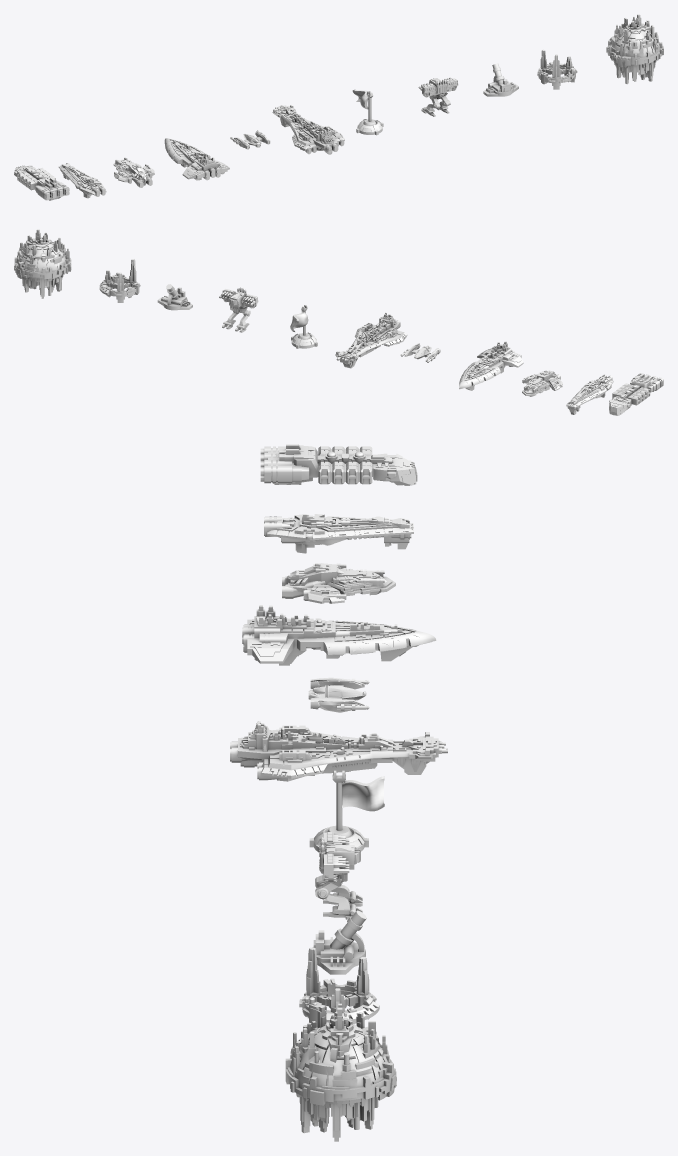
File: ttpg.glb
3 renders of one model, top to bottom at view 1: azimuth 30°, elevation 25°; view 2: azimuth 150°, elevation 25°; view 3: azimuth 270°, elevation 25°, orthographic. The views are drawn at different scales.
Parts seen in each view (by area): view 1: warsun.ttpg, flagship.ttpg, dreadnought.ttpg, carrier.ttpg, spacedock.ttpg, mech.ttpg, destroyer.ttpg, cruiser.ttpg, infantry.ttpg, pds.ttpg, fighter.ttpg; view 2: warsun.ttpg, flagship.ttpg, dreadnought.ttpg, carrier.ttpg, mech.ttpg, spacedock.ttpg, cruiser.ttpg, destroyer.ttpg, infantry.ttpg, pds.ttpg, fighter.ttpg; view 3: warsun.ttpg, flagship.ttpg, dreadnought.ttpg, carrier.ttpg, cruiser.ttpg, destroyer.ttpg, spacedock.ttpg, mech.ttpg, infantry.ttpg, pds.ttpg, fighter.ttpg.
Boxes of the visible parts, bbox=[...] form: warsun.ttpg: bbox=[606, 14, 663, 84]; flagship.ttpg: bbox=[272, 105, 344, 154]; dreadnought.ttpg: bbox=[164, 138, 229, 180]; carrier.ttpg: bbox=[14, 165, 69, 200]; spacedock.ttpg: bbox=[537, 49, 577, 89]; mech.ttpg: bbox=[418, 77, 458, 116]; destroyer.ttpg: bbox=[113, 157, 154, 187]; cruiser.ttpg: bbox=[58, 163, 106, 198]; infantry.ttpg: bbox=[352, 89, 383, 135]; pds.ttpg: bbox=[483, 63, 518, 96]; fighter.ttpg: bbox=[230, 130, 270, 149]; warsun.ttpg: bbox=[14, 229, 71, 298]; flagship.ttpg: bbox=[335, 312, 407, 368]; dreadnought.ttpg: bbox=[459, 341, 523, 390]; carrier.ttpg: bbox=[609, 373, 663, 415]; mech.ttpg: bbox=[219, 287, 258, 332]; spacedock.ttpg: bbox=[99, 259, 140, 302]; cruiser.ttpg: bbox=[566, 374, 613, 414]; destroyer.ttpg: bbox=[522, 370, 562, 396]; infantry.ttpg: bbox=[290, 305, 317, 348]; pds.ttpg: bbox=[157, 284, 192, 310]; fighter.ttpg: bbox=[400, 343, 440, 362]; warsun.ttpg: bbox=[285, 1003, 396, 1141]; flagship.ttpg: bbox=[230, 721, 447, 781]; dreadnought.ttpg: bbox=[242, 605, 436, 665]; carrier.ttpg: bbox=[260, 444, 417, 485]; cruiser.ttpg: bbox=[264, 514, 413, 553]; destroyer.ttpg: bbox=[282, 563, 395, 603]; spacedock.ttpg: bbox=[299, 947, 379, 1027]; mech.ttpg: bbox=[315, 832, 362, 919]; infantry.ttpg: bbox=[309, 770, 384, 852]; pds.ttpg: bbox=[312, 910, 366, 974]; fighter.ttpg: bbox=[308, 677, 369, 712].
Bounding box in the file's own units: 0.4109 × 0.0376 × 0.0618.
11 materials, 11 textured.
